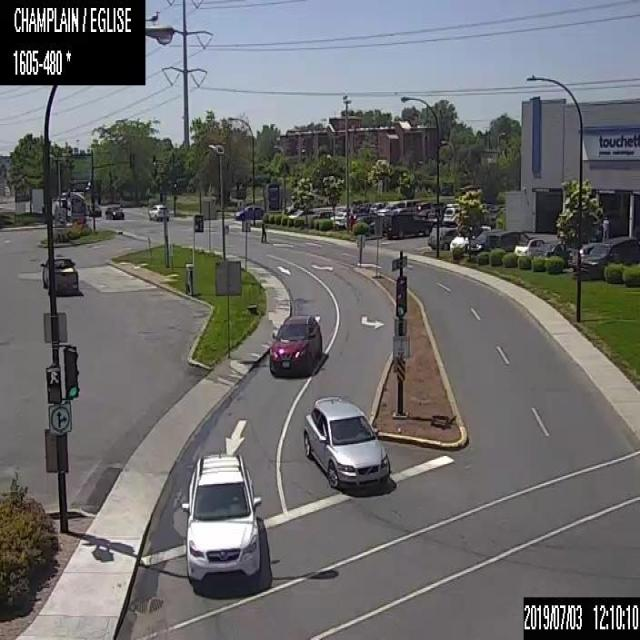pedestrian: (601, 216, 609, 240), (259, 223, 266, 241)
vehicle: (180, 451, 262, 586), (302, 394, 391, 490), (267, 314, 321, 378), (581, 235, 639, 278), (40, 256, 78, 294), (379, 211, 432, 238), (485, 229, 537, 251), (449, 224, 490, 250), (567, 241, 600, 267), (467, 228, 502, 252), (535, 240, 572, 260), (428, 226, 459, 249), (514, 236, 544, 255), (354, 213, 376, 237), (288, 208, 320, 224), (232, 202, 262, 218), (425, 202, 445, 222), (443, 201, 460, 224), (330, 210, 351, 228), (148, 203, 169, 221), (348, 211, 369, 228), (480, 208, 499, 226), (105, 204, 124, 218), (398, 199, 421, 210), (377, 203, 397, 214), (86, 202, 102, 215), (312, 209, 334, 218), (415, 201, 430, 214), (369, 201, 385, 212), (351, 198, 362, 212), (357, 201, 371, 210)
